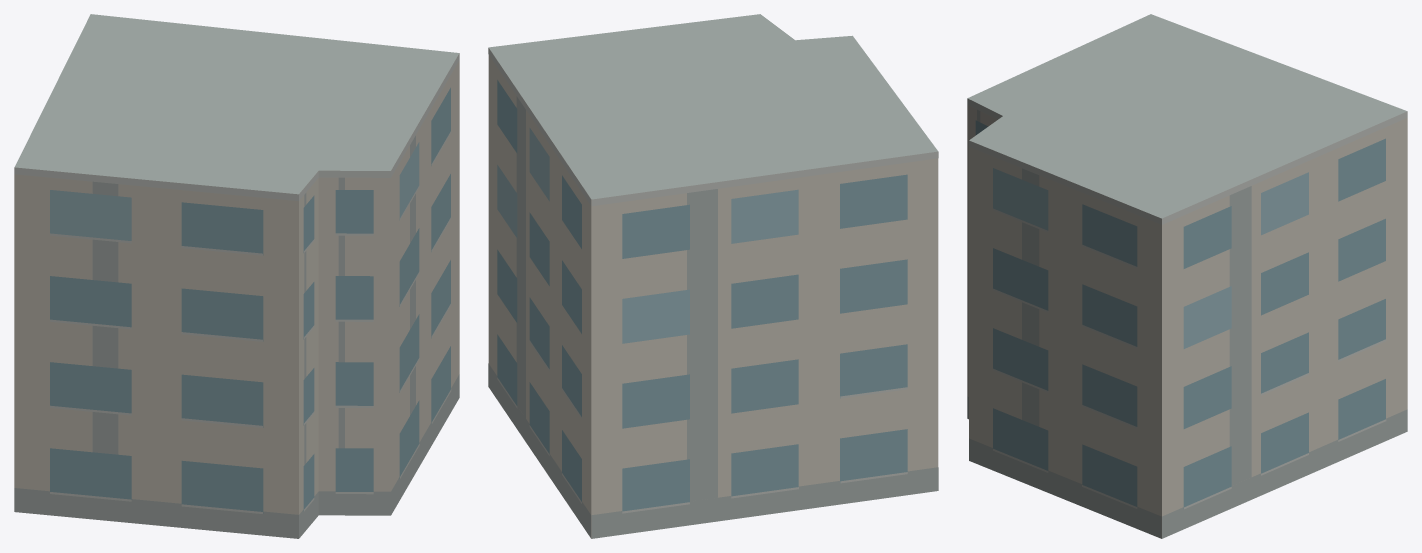
The model's file is residential-91da8efb-70ed-4e7f-aaa9-492c87ae1a4c.glb.
The picture shows the model from 3 angles, left to right: view 1: azimuth 30°, elevation 25°; view 2: azimuth 150°, elevation 25°; view 3: azimuth 270°, elevation 25°; orthographic projection. The views are drawn at different scales.
Parts seen in each view (by area): view 1: residential-91da8efb-70ed-4e7f-aaa9-492c87ae1a4c.tmp; view 2: residential-91da8efb-70ed-4e7f-aaa9-492c87ae1a4c.tmp; view 3: residential-91da8efb-70ed-4e7f-aaa9-492c87ae1a4c.tmp.
Part boxes in pixels (left/top/right/bottom): residential-91da8efb-70ed-4e7f-aaa9-492c87ae1a4c.tmp: left=14, top=14, right=459, bottom=538; residential-91da8efb-70ed-4e7f-aaa9-492c87ae1a4c.tmp: left=488, top=14, right=938, bottom=538; residential-91da8efb-70ed-4e7f-aaa9-492c87ae1a4c.tmp: left=967, top=14, right=1407, bottom=538.
Size of the model in its own units: 16.72 by 12.2 by 15.2.
